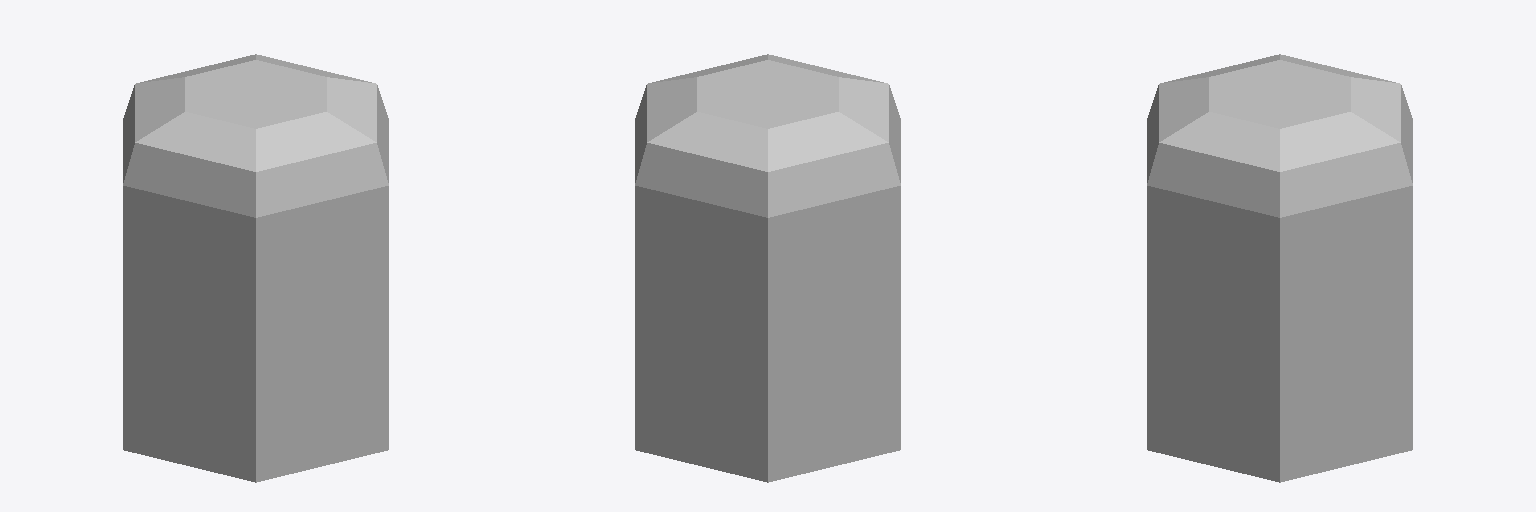
The model's file is galon.obj.
3 renders of one model, left to right at view 1: azimuth 30°, elevation 25°; view 2: azimuth 150°, elevation 25°; view 3: azimuth 270°, elevation 25°, orthographic.
Visible parts, largest first — view 1: Bardeco_2; view 2: Bardeco_2; view 3: Bardeco_2.
Part boxes in pixels (x1,y1,x2,y2): Bardeco_2: (123,54,388,482); Bardeco_2: (635,54,900,482); Bardeco_2: (1147,54,1412,482).
Size of the model in its own units: 1.13 by 1.32 by 0.9822.